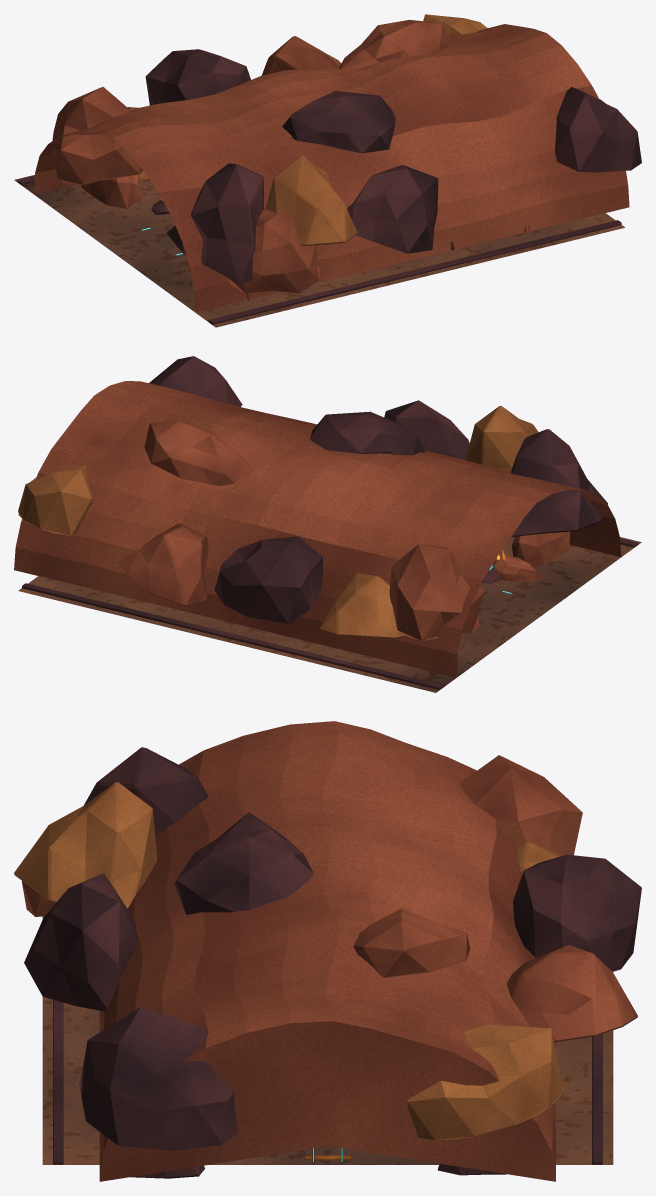
The model's file is resonance_cave_entrance_hero_v4.glb.
The picture shows the model from 3 angles, top to bottom: view 1: azimuth 30°, elevation 25°; view 2: azimuth 150°, elevation 25°; view 3: azimuth 270°, elevation 25°; orthographic projection. The views are drawn at different scales.
Parts seen in each view (by area): view 1: HeroCaveShell, HeroFloor, HeroRock_00, HeroRock_03, HeroRock_04, HeroRock_08, HeroRock_10, HeroRock_02, HeroRock_01, HeroRock_06, HeroRock_11, HeroFloorGutter_-1 (+3 smaller); view 2: HeroCaveShell, HeroFloor, HeroRock_06, HeroRock_04, HeroRock_00, HeroRock_07, HeroRock_11, HeroRock_09, HeroRock_10, HeroRock_05, HeroRock_02, HeroFloorGutter_1 (+4 smaller); view 3: HeroCaveShell, HeroRock_08, HeroFloor, HeroRock_06, HeroRock_09, HeroRock_02, HeroRock_03, HeroRock_10, HeroRock_07, HeroRock_04, HeroRock_11, HeroRock_00 (+3 smaller).
Boxes of the visible parts, x1,y1,x2,y2 form: HeroCaveShell: (34,24,629,312); HeroFloor: (14,175,624,327); HeroRock_00: (167,163,263,283); HeroRock_03: (347,164,438,253); HeroRock_04: (51,87,143,184); HeroRock_08: (555,87,641,172); HeroRock_10: (282,91,395,153); HeroRock_02: (265,155,357,245); HeroRock_01: (228,209,319,293); HeroRock_06: (145,49,250,105); HeroRock_11: (339,19,450,69); HeroFloorGutter_-1: (208,220,621,324); HeroCaveShell: (14,381,621,677); HeroFloor: (18,537,641,692); HeroRock_06: (214,536,322,623); HeroRock_04: (389,544,484,640); HeroRock_00: (511,429,607,536); HeroRock_07: (118,523,208,605); HeroRock_11: (144,420,254,486); HeroRock_09: (18,466,93,535); HeroRock_10: (310,411,424,455); HeroRock_05: (320,573,406,638); HeroRock_02: (465,406,538,472); HeroFloorGutter_1: (22,583,443,689); HeroCaveShell: (99,721,555,1181); HeroRock_08: (79,1007,238,1150); HeroFloor: (42,916,613,1164); HeroRock_06: (513,854,641,971); HeroRock_09: (406,1024,566,1140); HeroRock_02: (14,782,157,908); HeroRock_03: (24,873,137,1011); HeroRock_10: (174,812,313,914); HeroRock_07: (507,945,637,1042); HeroRock_04: (458,755,582,856); HeroRock_11: (353,908,470,977); HeroRock_00: (84,747,208,837).
Bounding box in the file's own units: 37.77 × 10.51 × 31.92.
Materials: 10 (8 with a texture image).
